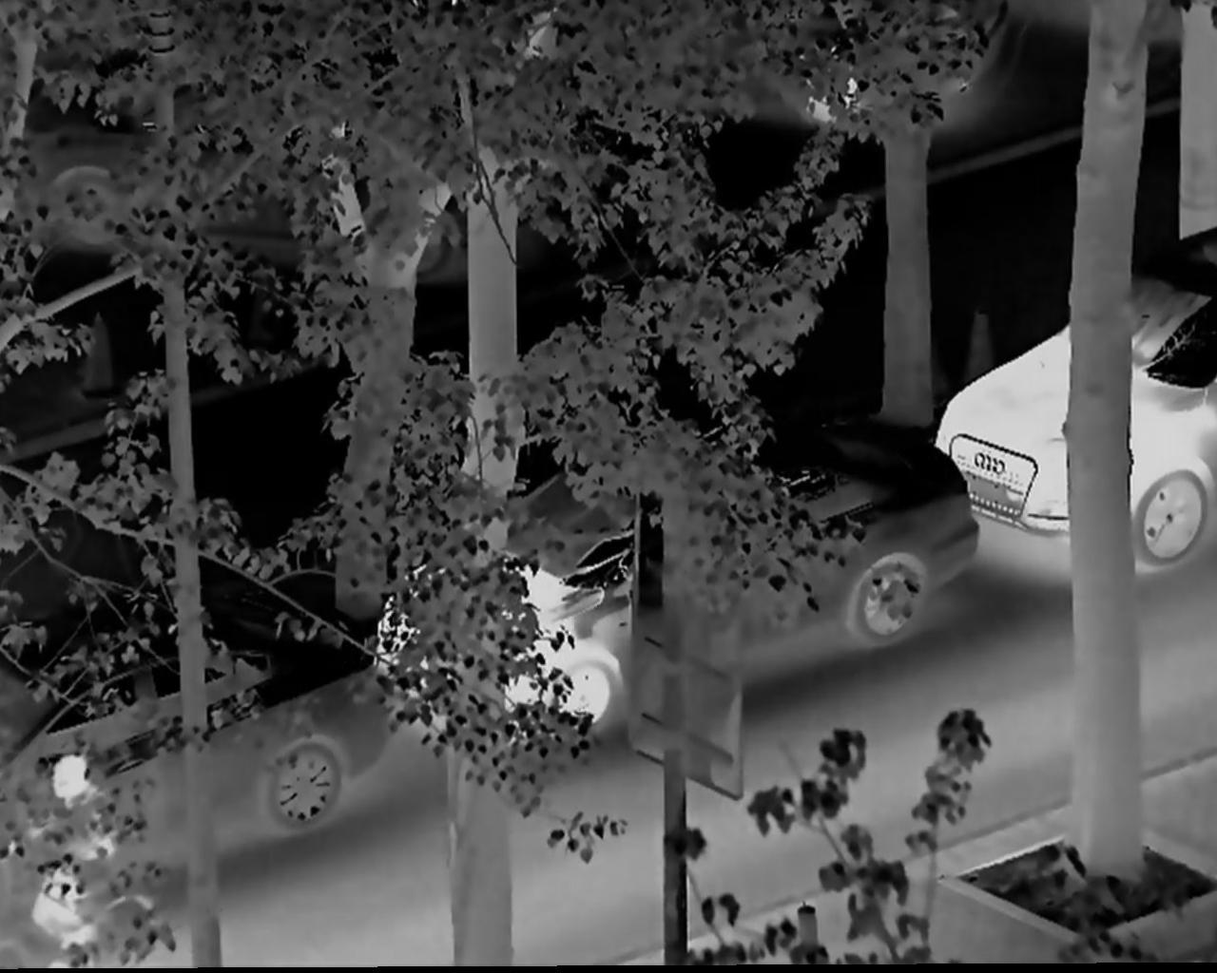person: (22, 743, 151, 957)
